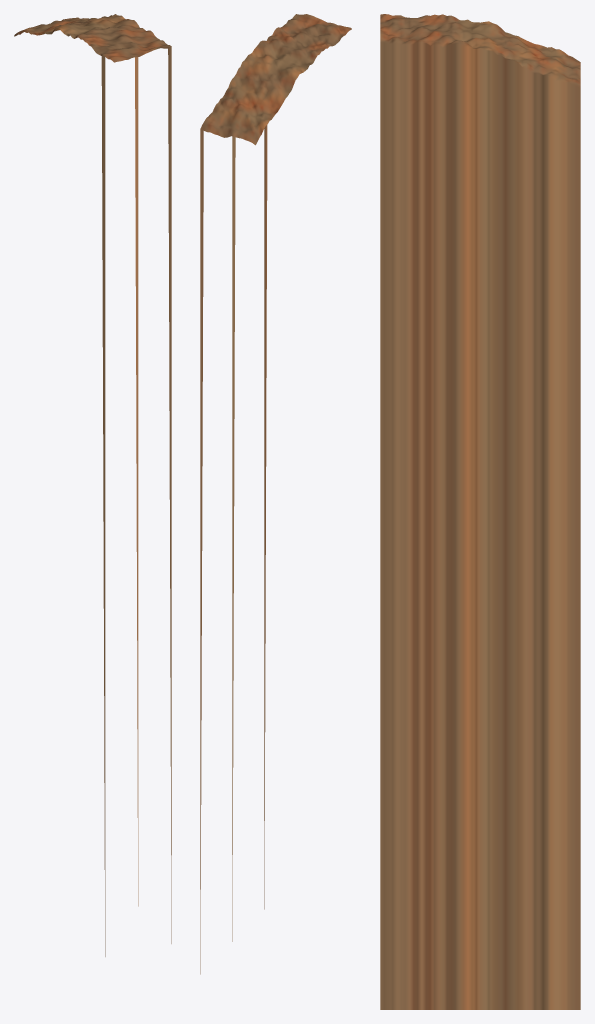
The model's file is terrain-167.glb.
The picture shows the model from 3 angles, left to right: view 1: azimuth 30°, elevation 25°; view 2: azimuth 150°, elevation 25°; view 3: azimuth 270°, elevation 25°; orthographic projection. The views are drawn at different scales.
Visible parts, largest first — view 1: terrain-167; view 2: terrain-167; view 3: terrain-167.
Boxes of the visible parts, x1=… form: terrain-167: x1=14, y1=14, x2=171, y2=956; terrain-167: x1=200, y1=14, x2=351, y2=974; terrain-167: x1=380, y1=14, x2=580, y2=1009.
Size of the model in its own units: 128 by 2051 by 384.
